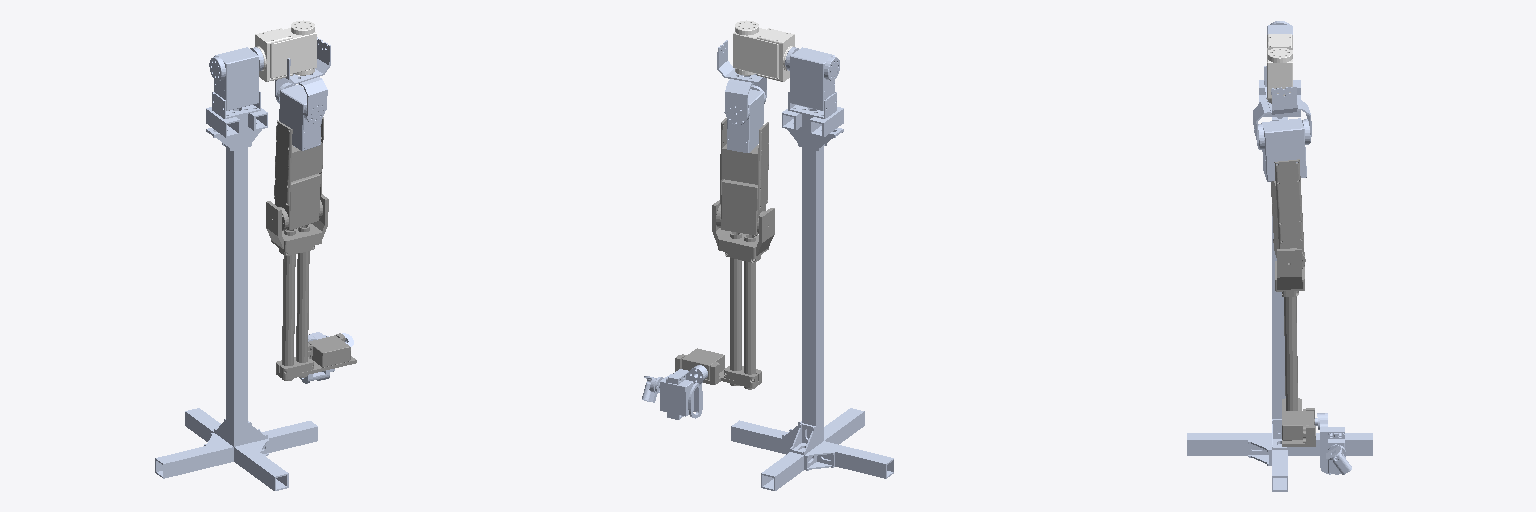
URDF robot description (ASEM_V2.SLDASM):
<?xml version="1.0" encoding="utf-8"?>
<!-- This URDF was automatically created by SolidWorks to URDF Exporter! Originally created by Stephen Brawner (brawner@gmail.com) 
     Commit Version: 1.6.0-4-g7f85cfe  Build Version: 1.6.7995.38578
     For more information, please see http://wiki.ros.org/sw_urdf_exporter -->
<robot
  name="ASEM_V2.SLDASM">
  <link
    name="base_link">
    <inertial>
      <origin
        xyz="0.000783610359219685 0.000780779155809922 0.224876879511092"
        rpy="0 0 0" />
      <mass
        value="0.656798808945253" />
      <inertia
        ixx="0.00352706468827847"
        ixy="-1.80141580287448E-06"
        ixz="8.68934291778756E-07"
        iyy="0.00354410801464646"
        iyz="9.00707901436606E-07"
        izz="0.00022739890592658" />
    </inertial>
    <visual>
      <origin
        xyz="0 0 0"
        rpy="0 0 0" />
      <geometry>
        <mesh
          filename="package://ASEM_V2.SLDASM/meshes/base_link.STL" />
      </geometry>
      <material
        name="">
        <color
          rgba="0.866666666666667 0.909803921568627 1 1" />
      </material>
    </visual>
    <collision>
      <origin
        xyz="0 0 0"
        rpy="0 0 0" />
      <geometry>
        <mesh
          filename="package://ASEM_V2.SLDASM/meshes/base_link.STL" />
      </geometry>
    </collision>
  </link>
  <link
    name="link1">
    <inertial>
      <origin
        xyz="1.53695368567425E-05 7.49041428105279E-07 0.0699801166821439"
        rpy="0 0 0" />
      <mass
        value="0.120852949012653" />
      <inertia
        ixx="4.77110731222519E-05"
        ixy="-1.10074776051155E-06"
        ixz="-3.1737401682286E-08"
        iyy="7.02439421311483E-05"
        iyz="-1.54677668745102E-09"
        izz="4.02294785409818E-05" />
    </inertial>
    <visual>
      <origin
        xyz="0 0 0"
        rpy="0 0 0" />
      <geometry>
        <mesh
          filename="package://ASEM_V2.SLDASM/meshes/link1.STL" />
      </geometry>
      <material
        name="">
        <color
          rgba="1 1 1 1" />
      </material>
    </visual>
    <collision>
      <origin
        xyz="0 0 0"
        rpy="0 0 0" />
      <geometry>
        <mesh
          filename="package://ASEM_V2.SLDASM/meshes/link1.STL" />
      </geometry>
    </collision>
  </link>
  <joint
    name="j1"
    type="revolute">
    <origin
      xyz="0 0 0.532999999999992"
      rpy="-1.57079632679455 0 -1.57079632679567" />
    <parent
      link="base_link" />
    <child
      link="link1" />
    <axis
      xyz="0 0 -1" />
    <limit
      lower="-3.14"
      upper="3.14"
      effort="0"
      velocity="0" />
  </joint>
  <link
    name="link2">
    <inertial>
      <origin
        xyz="0.0792972044006987 -4.24506213754176E-05 -5.62551089454966E-05"
        rpy="0 0 0" />
      <mass
        value="0.14035863699268" />
      <inertia
        ixx="6.09160617441116E-05"
        ixy="4.5063553327163E-09"
        ixz="-3.1452426069635E-08"
        iyy="8.06491281944083E-05"
        iyz="2.39558523131469E-06"
        izz="6.42721996369244E-05" />
    </inertial>
    <visual>
      <origin
        xyz="0 0 0"
        rpy="0 0 0" />
      <geometry>
        <mesh
          filename="package://ASEM_V2.SLDASM/meshes/link2.STL" />
      </geometry>
      <material
        name="">
        <color
          rgba="0.866666666666667 0.909803921568627 1 1" />
      </material>
    </visual>
    <collision>
      <origin
        xyz="0 0 0"
        rpy="0 0 0" />
      <geometry>
        <mesh
          filename="package://ASEM_V2.SLDASM/meshes/link2.STL" />
      </geometry>
    </collision>
  </link>
  <joint
    name="j2"
    type="revolute">
    <origin
      xyz="0 0 0.0936999999999749"
      rpy="2.99928584295766 0.00698253920653106 1.61949252951764" />
    <parent
      link="link1" />
    <child
      link="link2" />
    <axis
      xyz="0 -0.989891462303434 -0.141826982125298" />
    <limit
      lower="-3.14"
      upper="3.14"
      effort="0"
      velocity="0" />
  </joint>
  <link
    name="link3">
    <inertial>
      <origin
        xyz="0.106202976965643 -1.34568156172701E-06 9.39227972704404E-06"
        rpy="0 0 0" />
      <mass
        value="0.195921875509131" />
      <inertia
        ixx="6.69647666943292E-05"
        ixy="4.51241998041075E-09"
        ixz="-3.14515571554184E-08"
        iyy="0.000118873346552159"
        iyz="5.37812188955413E-06"
        izz="8.21112386046817E-05" />
    </inertial>
    <visual>
      <origin
        xyz="0 0 0"
        rpy="0 0 0" />
      <geometry>
        <mesh
          filename="package://ASEM_V2.SLDASM/meshes/link3.STL" />
      </geometry>
      <material
        name="">
        <color
          rgba="0.698039215686274 0.698039215686274 0.698039215686274 1" />
      </material>
    </visual>
    <collision>
      <origin
        xyz="0 0 0"
        rpy="0 0 0" />
      <geometry>
        <mesh
          filename="package://ASEM_V2.SLDASM/meshes/link3.STL" />
      </geometry>
    </collision>
  </link>
  <joint
    name="j3"
    type="revolute">
    <origin
      xyz="0.0760000000000004 -4.24032240087802E-05 -5.65859222212278E-05"
      rpy="0 0 0" />
    <parent
      link="link2" />
    <child
      link="link3" />
    <axis
      xyz="0 0.141826982125336 -0.989891462303428" />
    <limit
      lower="-3.14"
      upper="3.14"
      effort="0"
      velocity="0" />
  </joint>
  <link
    name="link4">
    <inertial>
      <origin
        xyz="0.121297780830147 -0.00228656782697459 -0.0138460602701024"
        rpy="0 0 0" />
      <mass
        value="0.178854495227052" />
      <inertia
        ixx="7.49286492620743E-05"
        ixy="-3.85497501084577E-07"
        ixz="7.55666404369242E-07"
        iyy="0.000304798739501583"
        iyz="-4.09856409686647E-06"
        izz="0.000258620428699151" />
    </inertial>
    <visual>
      <origin
        xyz="0 0 0"
        rpy="0 0 0" />
      <geometry>
        <mesh
          filename="package://ASEM_V2.SLDASM/meshes/link4.STL" />
      </geometry>
      <material
        name="">
        <color
          rgba="0.698039215686274 0.698039215686274 0.698039215686274 1" />
      </material>
    </visual>
    <collision>
      <origin
        xyz="0 0 0"
        rpy="0 0 0" />
      <geometry>
        <mesh
          filename="package://ASEM_V2.SLDASM/meshes/link4.STL" />
      </geometry>
    </collision>
  </link>
  <joint
    name="j4"
    type="revolute">
    <origin
      xyz="0.1524 0 0"
      rpy="0.142227095532682 -0.00477868551955862 0.0333596148805091" />
    <parent
      link="link3" />
    <child
      link="link4" />
    <axis
      xyz="0 0 1" />
    <limit
      lower="-3.14"
      upper="3.14"
      effort="0"
      velocity="0" />
  </joint>
  <link
    name="link5">
    <inertial>
      <origin
        xyz="0.0176237476397124 0.0250721315902541 0.0147843001859777"
        rpy="0 0 0" />
      <mass
        value="0.0509977130540439" />
      <inertia
        ixx="1.37983244494247E-05"
        ixy="-7.54685705199565E-07"
        ixz="-2.96777647427459E-07"
        iyy="8.07032638077089E-06"
        iyz="-4.31889369224815E-07"
        izz="1.7649497602858E-05" />
    </inertial>
    <visual>
      <origin
        xyz="0 0 0"
        rpy="0 0 0" />
      <geometry>
        <mesh
          filename="package://ASEM_V2.SLDASM/meshes/link5.STL" />
      </geometry>
      <material
        name="">
        <color
          rgba="0.866666666666667 0.909803921568627 1 1" />
      </material>
    </visual>
    <collision>
      <origin
        xyz="0 0 0"
        rpy="0 0 0" />
      <geometry>
        <mesh
          filename="package://ASEM_V2.SLDASM/meshes/link5.STL" />
      </geometry>
    </collision>
  </link>
  <joint
    name="j5"
    type="revolute">
    <origin
      xyz="0.203415298893313 -0.0326560000000002 -0.0424777034725911"
      rpy="1.57080192921956 1.55597892686556 0" />
    <parent
      link="link4" />
    <child
      link="link5" />
    <axis
      xyz="5.40030128601899E-05 0 -0.999999998541837" />
    <limit
      lower="-3.14"
      upper="3.14"
      effort="0"
      velocity="0" />
  </joint>
  <link
    name="link6">
    <inertial>
      <origin
        xyz="0.0044742739072377 3.56790727795708E-08 0.00500908421702634"
        rpy="0 0 0" />
      <mass
        value="0.00796130788841398" />
      <inertia
        ixx="3.42405815529442E-07"
        ixy="-8.56754060143098E-13"
        ixz="-1.29929208075524E-08"
        iyy="6.13796060700105E-07"
        iyz="-2.34336560825797E-12"
        izz="6.82455745926371E-07" />
    </inertial>
    <visual>
      <origin
        xyz="0 0 0"
        rpy="0 0 0" />
      <geometry>
        <mesh
          filename="package://ASEM_V2.SLDASM/meshes/link6.STL" />
      </geometry>
      <material
        name="">
        <color
          rgba="0.866666666666667 0.909803921568627 1 1" />
      </material>
    </visual>
    <collision>
      <origin
        xyz="0 0 0"
        rpy="0 0 0" />
      <geometry>
        <mesh
          filename="package://ASEM_V2.SLDASM/meshes/link6.STL" />
      </geometry>
    </collision>
  </link>
  <joint
    name="j6"
    type="revolute">
    <origin
      xyz="0.0474752970165719 0.0179751396401513 0.0194248992959394"
      rpy="1.5707963267949 -0.581511584922485 1.5707963267949" />
    <parent
      link="link5" />
    <child
      link="link6" />
    <axis
      xyz="0 0 -1" />
    <limit
      lower="-3.14"
      upper="3.14"
      effort="0"
      velocity="0" />
  </joint>
</robot>

--- What the picture shows (computed from the rendered views, not written in the file) ---
Views: 3 orthographic renders of the robot side by side, from view 1: azimuth 30°, elevation 25°; view 2: azimuth 150°, elevation 25°; view 3: azimuth 270°, elevation 25°.
Model ASEM_V2.SLDASM with 7 links and 6 joints (6 revolute), rooted at base_link, posed all joints at 0.
Visible links, largest first — view 1: base_link, link4, link3, link2, link1; view 2: base_link, link4, link3, link2, link1, link5; view 3: base_link, link4, link2, link3, link1, link5.
Link boxes in pixels (<box>): base_link: <box>155,47,317,490</box>; link4: <box>266,194,356,380</box>; link3: <box>274,117,323,230</box>; link2: <box>275,37,330,150</box>; link1: <box>255,20,316,81</box>; base_link: <box>731,47,893,490</box>; link4: <box>675,200,774,389</box>; link3: <box>716,118,768,235</box>; link2: <box>717,40,766,152</box>; link1: <box>733,20,794,81</box>; link5: <box>660,365,707,419</box>; base_link: <box>1187,21,1372,491</box>; link4: <box>1275,249,1315,446</box>; link2: <box>1253,66,1311,181</box>; link3: <box>1271,159,1305,268</box>; link1: <box>1267,34,1292,103</box>; link5: <box>1315,413,1344,474</box>.
Size in the robot's own frame: 0.3116 by 0.22 by 0.5637 metres.
7 mesh visuals loaded from 7 distinct referenced files (7 binary STL).
